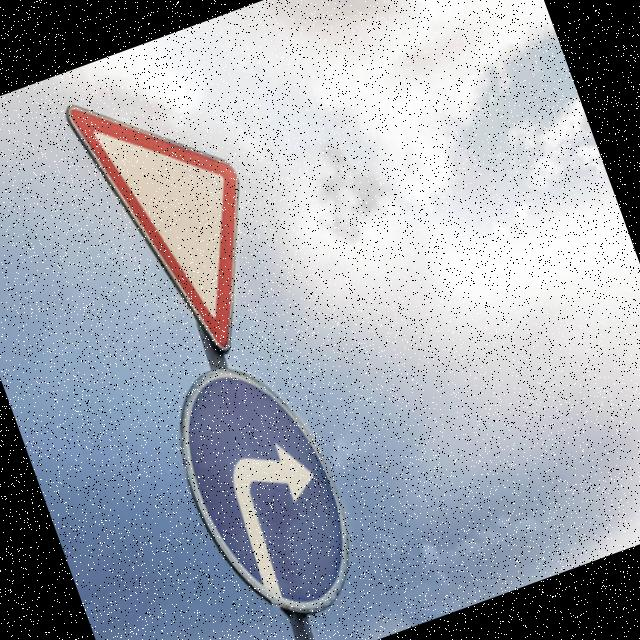compulsory_keep_right: (152, 334, 390, 639)
give_way: (45, 37, 308, 386)
